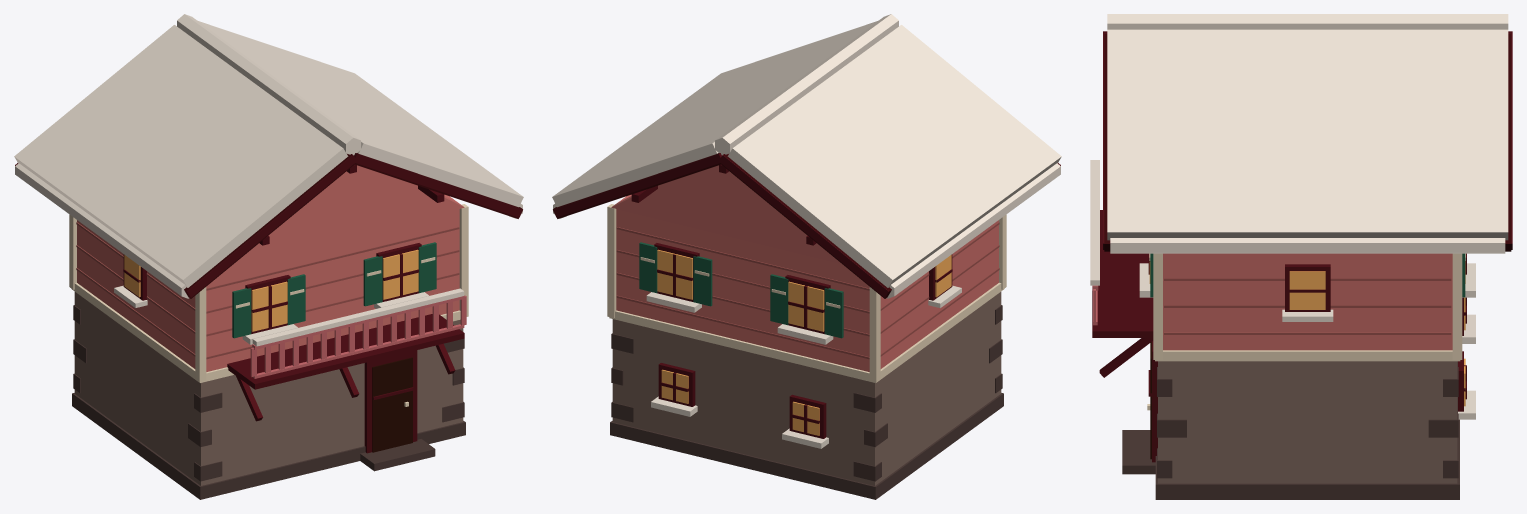
The model's file is rs_chalet.glb.
The picture shows the model from 3 angles, left to right: view 1: azimuth 30°, elevation 25°; view 2: azimuth 150°, elevation 25°; view 3: azimuth 270°, elevation 25°; orthographic projection. The views are drawn at different scales.
Visible parts, largest first — view 1: roof, body, balcony, door; view 2: body, roof; view 3: roof, body, balcony, door.
Boxes of the visible parts, x1,y1,x2,y2 form: roof: (14, 14, 523, 298); body: (69, 194, 468, 499); balcony: (227, 288, 466, 421); door: (360, 350, 435, 471); body: (607, 194, 1006, 499); roof: (552, 14, 1061, 298); roof: (1103, 14, 1512, 253); body: (1139, 253, 1475, 499); balcony: (1090, 160, 1153, 377); door: (1122, 341, 1157, 474).
Size of the model in its own units: 7.81 by 7.54 by 7.05.
